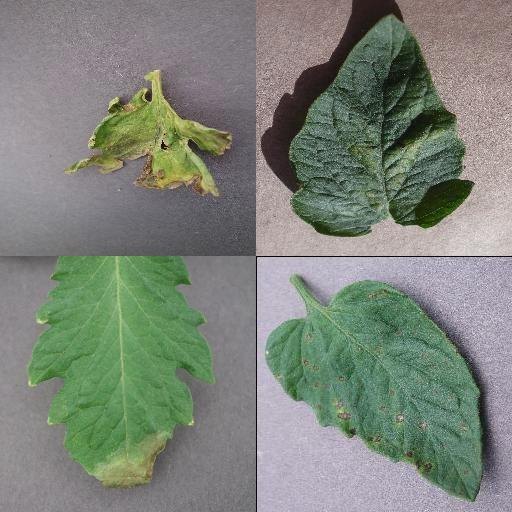Late Blight: (26, 256, 218, 490), (63, 85, 233, 199)
Septoria: (263, 279, 482, 503)
Spider Mites: (289, 14, 475, 238)
